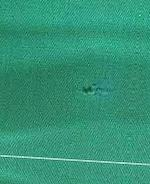knot: (79, 80, 107, 98)
